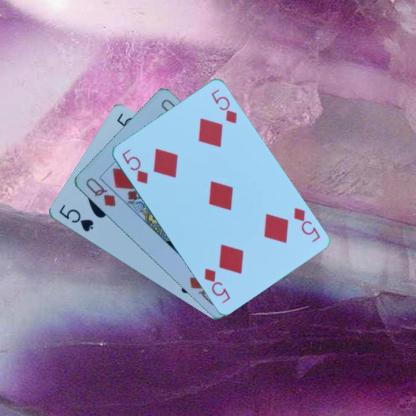5d: (119, 146, 149, 185), (291, 205, 321, 243)
5s: (55, 202, 95, 233)
Qd: (83, 175, 117, 208)
